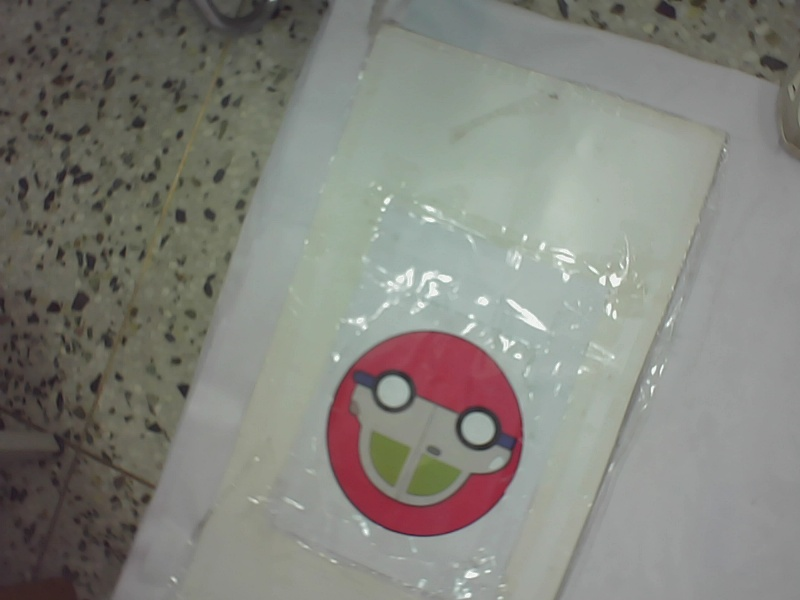areaC: (321, 324, 527, 544)
